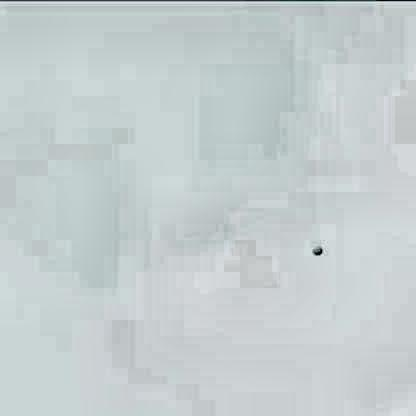golfball: (307, 243, 320, 254)
